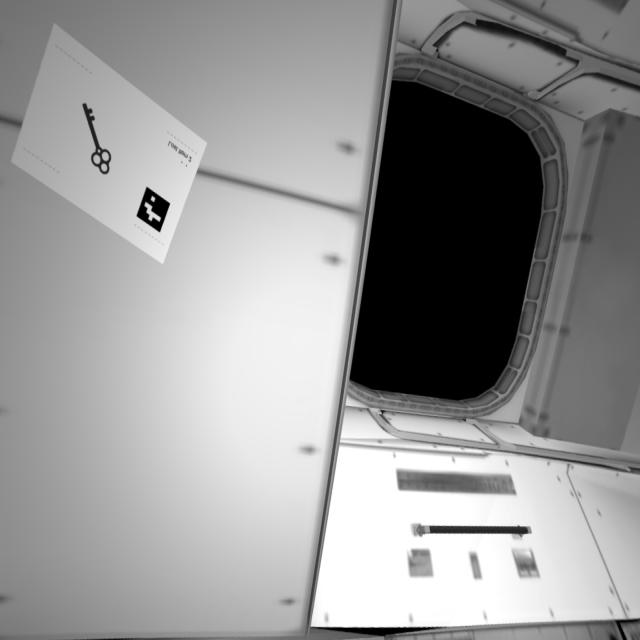key: (77, 91, 115, 181)
